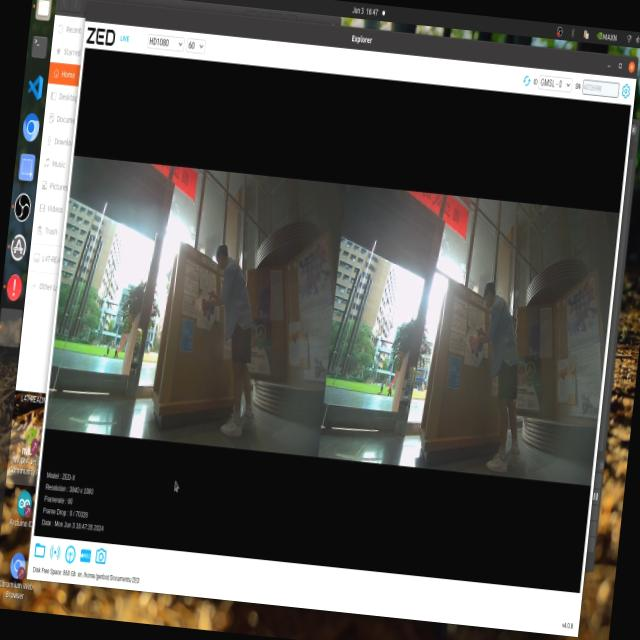blue: (464, 329, 488, 356), (197, 292, 216, 323)
